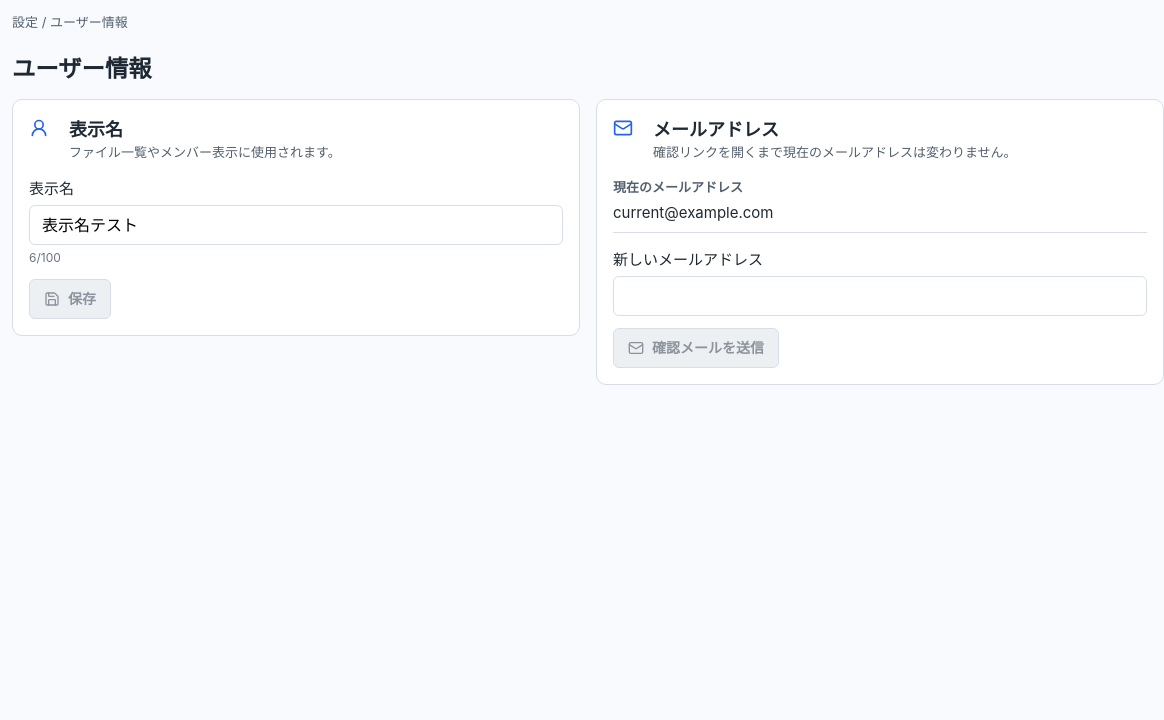
UserSettingsPage › updates display name with trimmed value
Replace the text in the field showing "表示名テスト" with "  新しい表示名  " at (296, 225), box 29,205 -> 563,245
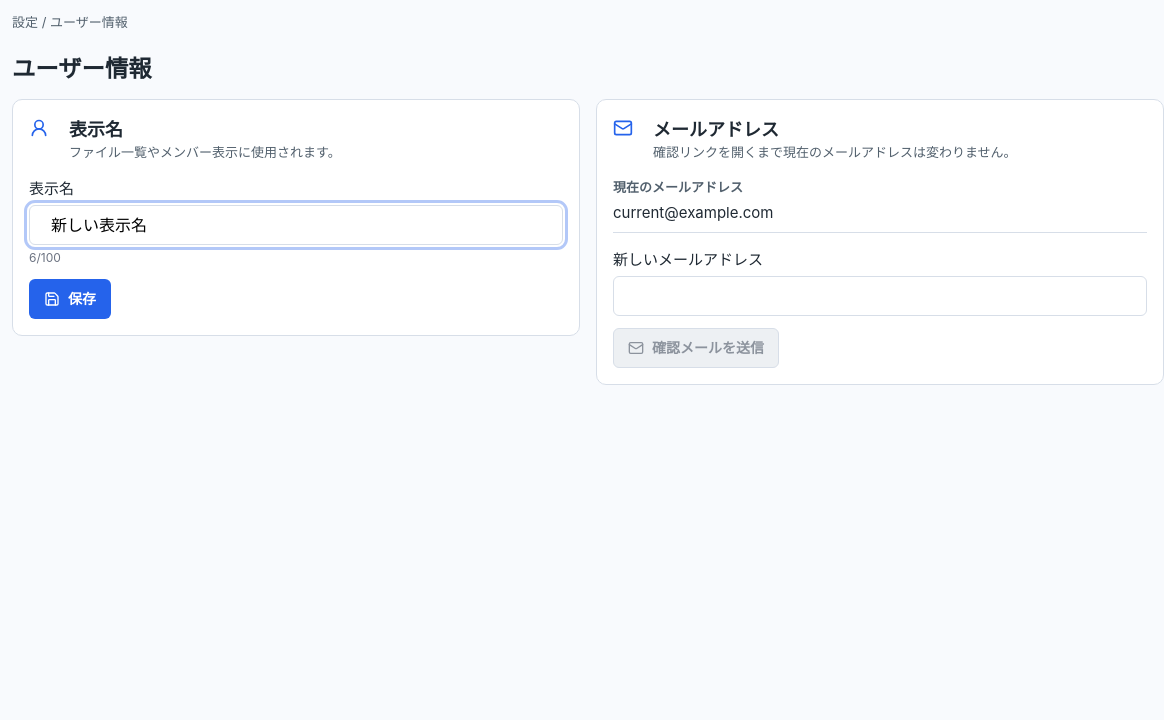
Click the button "保存" at (70, 299), box 29,279 -> 111,319
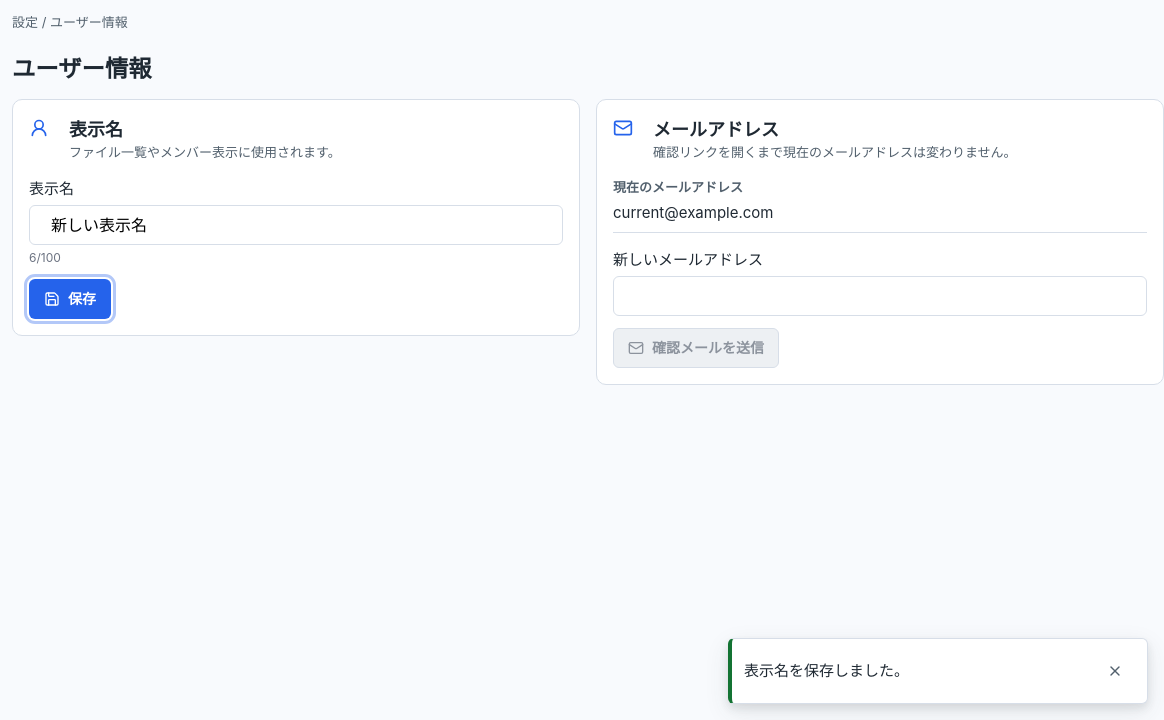
Expected: the text "表示名を保存しました。" is shown, 744,660 -> 909,682
